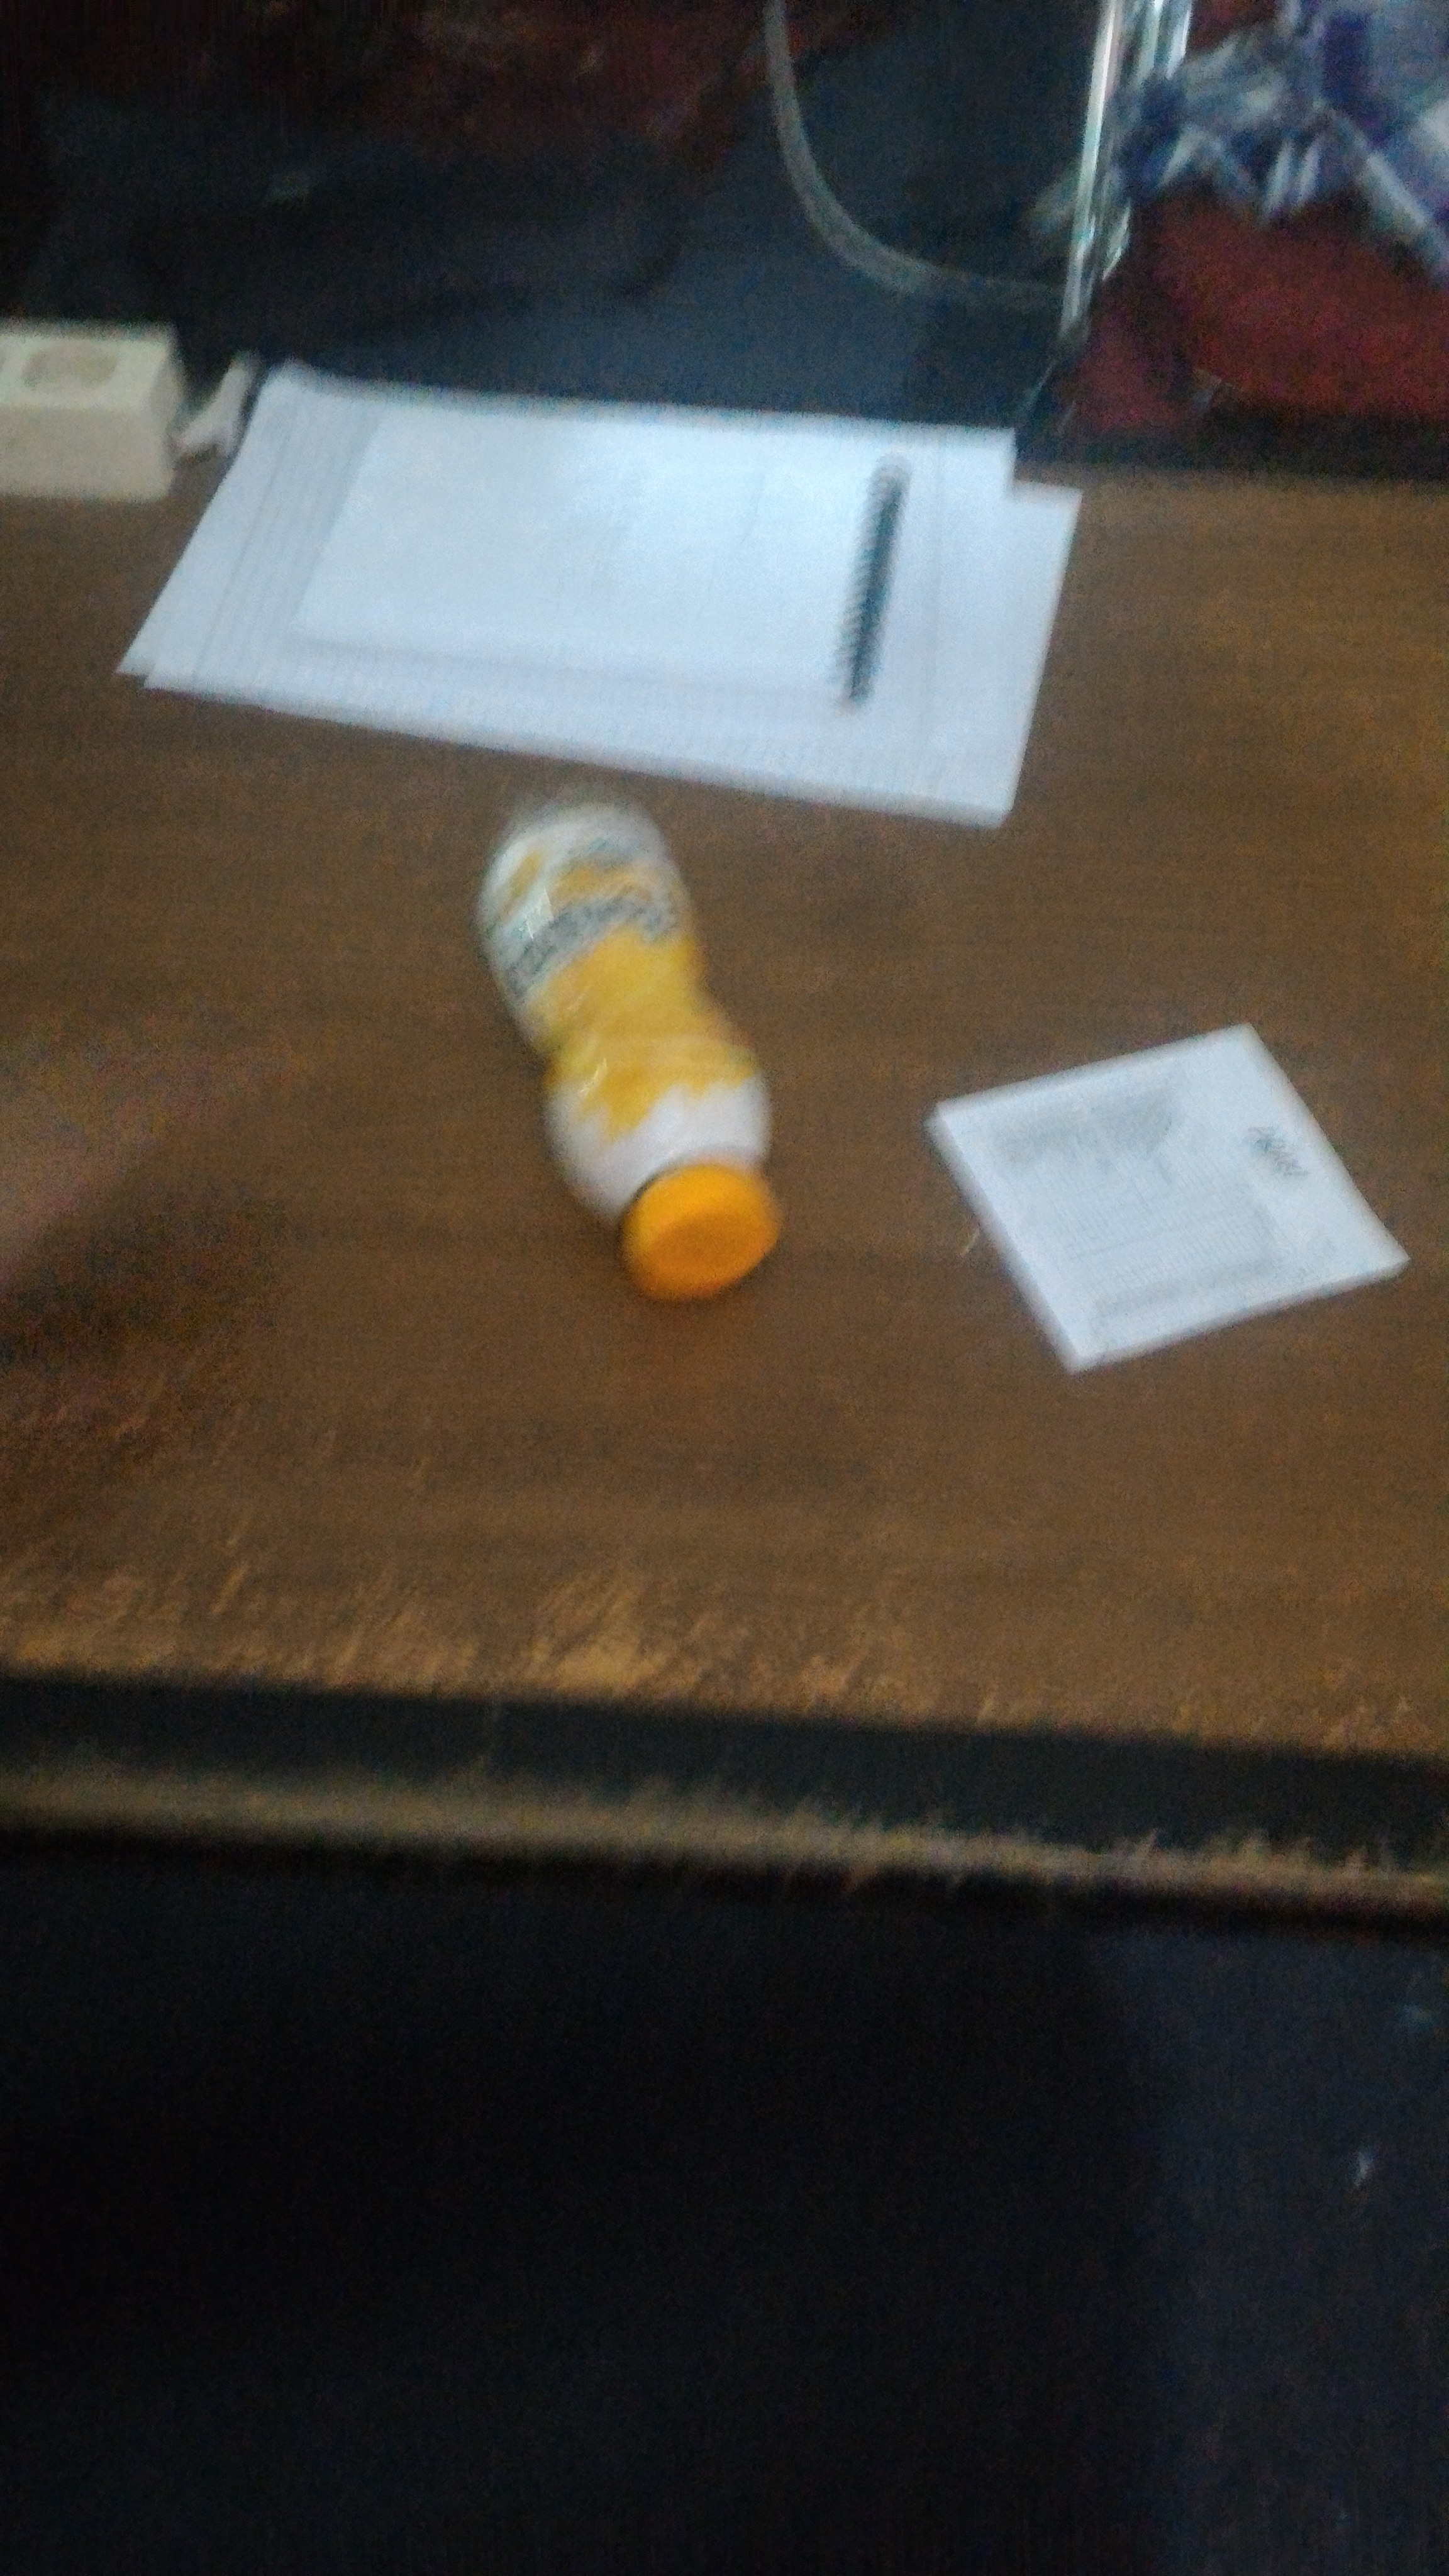botol: (479, 770, 780, 1309), (462, 814, 780, 1309), (479, 814, 780, 1309)
